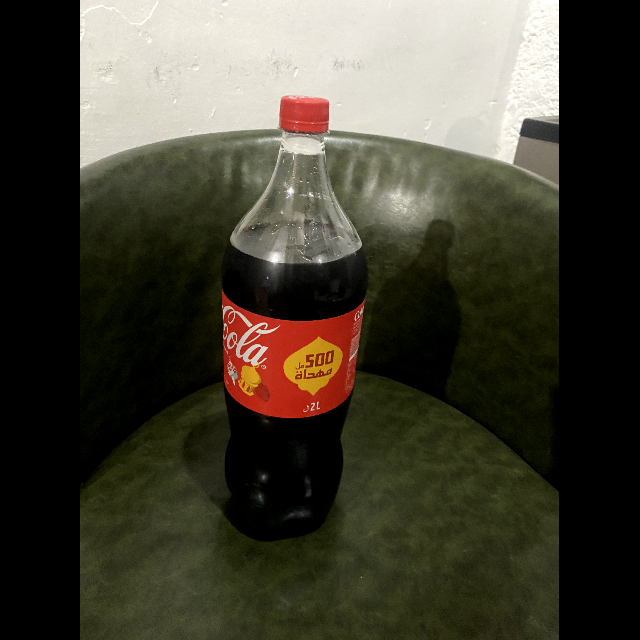coca-cola GB: (219, 95, 370, 531)
